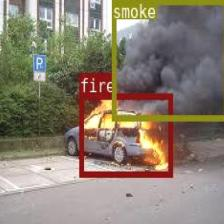fire: (78, 93, 172, 175)
smoke: (111, 0, 224, 119)
